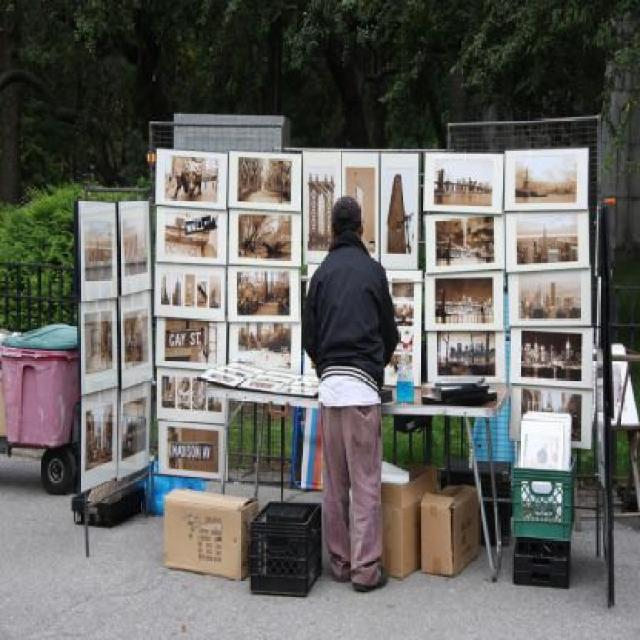Person: (302, 199, 401, 593), (175, 376, 191, 409), (354, 170, 364, 218)
